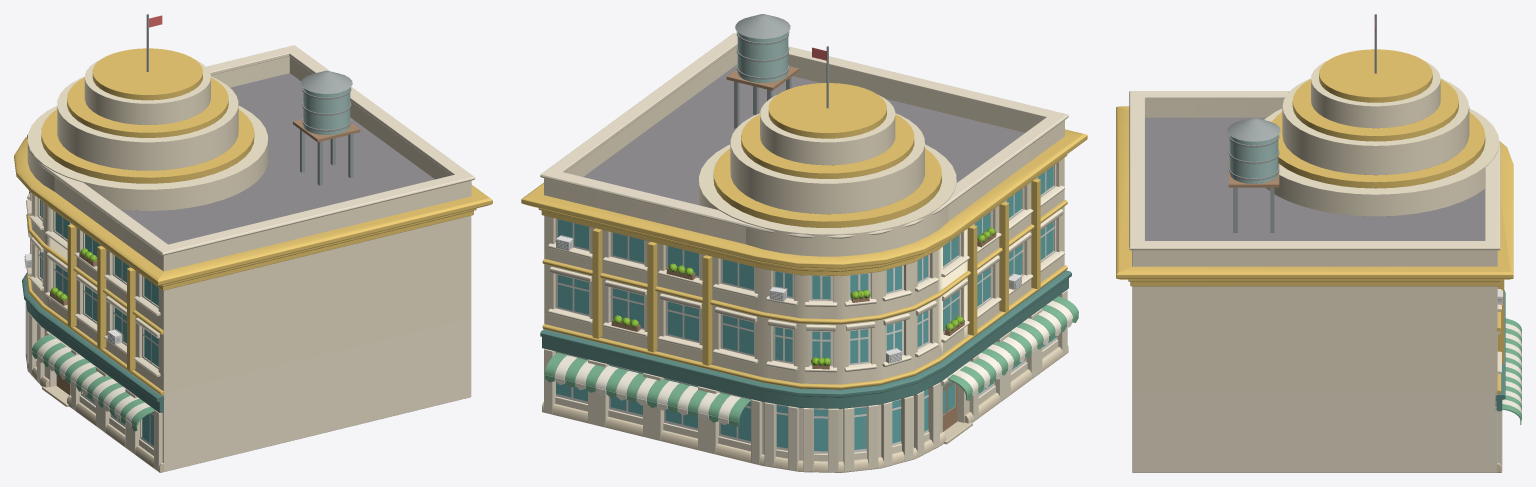
File: deco_corner.glb
The picture shows the model from 3 angles, left to right: view 1: azimuth 30°, elevation 25°; view 2: azimuth 150°, elevation 25°; view 3: azimuth 270°, elevation 25°; orthographic projection. The views are drawn at different scales.
Parts seen in each view (by area): view 1: shell, trim, props, awnings, frames; view 2: trim, shell, props, awnings, frames, foliage; view 3: shell, props, trim, awnings.
Part boxes in pixels (box(x1,y1,x2,y2)): shell: box(30, 73, 471, 471); trim: box(14, 45, 492, 472); props: box(24, 14, 360, 394); awnings: box(32, 334, 154, 431); frames: box(37, 198, 158, 448); trim: box(521, 33, 1087, 472); shell: box(544, 65, 1064, 461); props: box(556, 14, 1021, 430); awnings: box(544, 296, 1078, 427); frames: box(555, 164, 1057, 453); foliage: box(613, 227, 995, 365); shell: box(1132, 117, 1497, 472); props: box(1227, 14, 1503, 304); trim: box(1116, 91, 1513, 472); awnings: box(1502, 318, 1521, 424).
Size of the model in its own units: 20 by 19.37 by 20.
20 materials, 2 textured.
